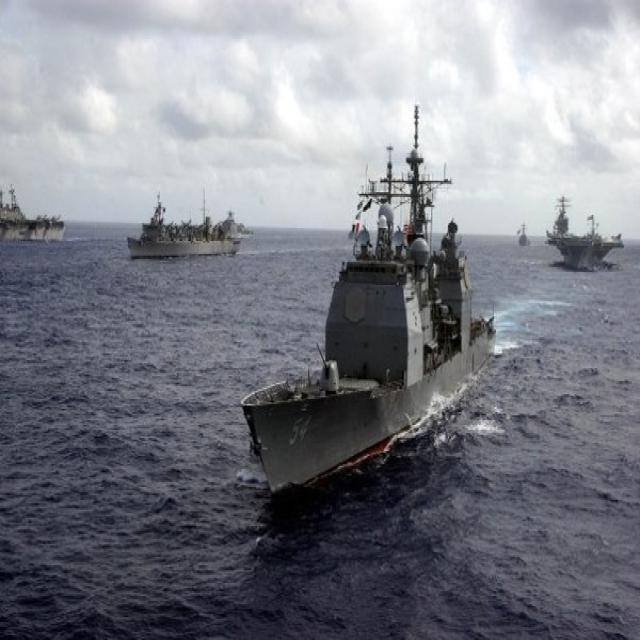navalvessels: (239, 104, 508, 500), (122, 178, 243, 268), (542, 183, 638, 275), (0, 192, 66, 242)
